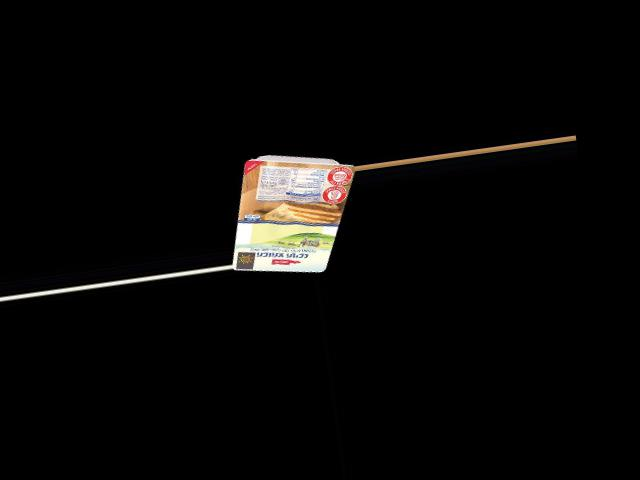cheese: (229, 148, 348, 281)
